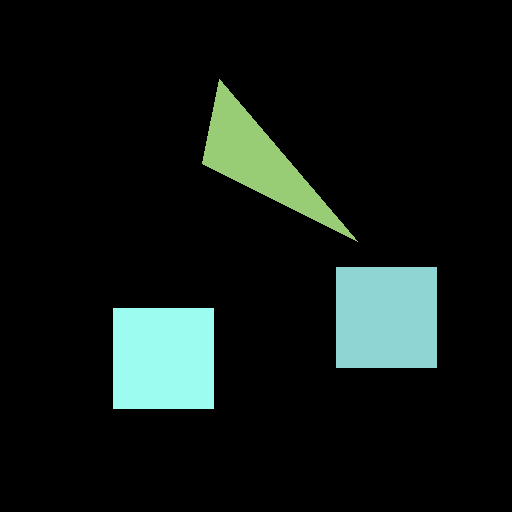square: (113, 308, 213, 408), (336, 267, 436, 367)
triangle: (202, 79, 357, 241)
